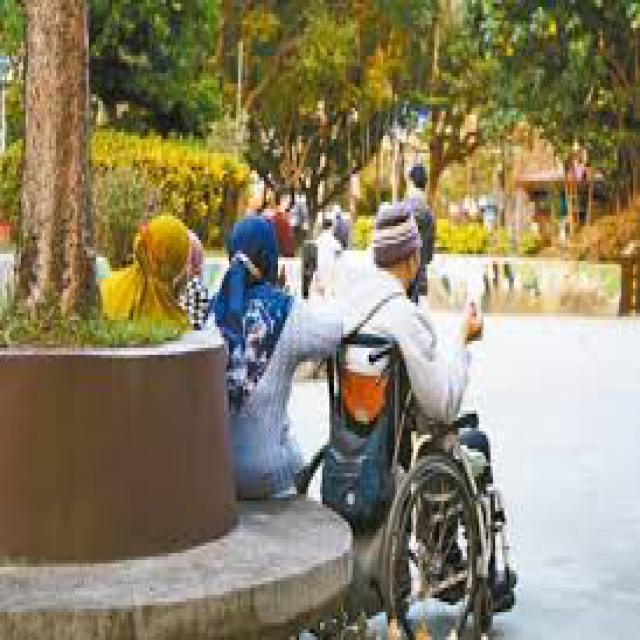wheelchairs: (306, 324, 514, 636)
